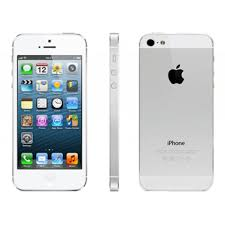iphone: (135, 29, 216, 191), (7, 30, 88, 192)
iphone5: (8, 30, 89, 192), (135, 29, 216, 191)
